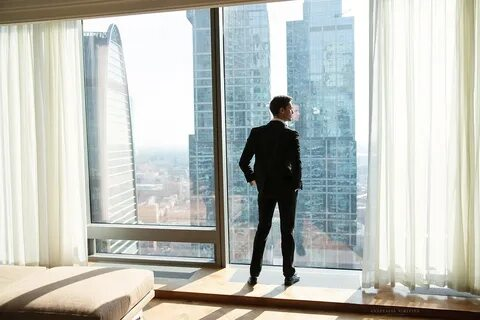awake: (237, 94, 304, 287)
